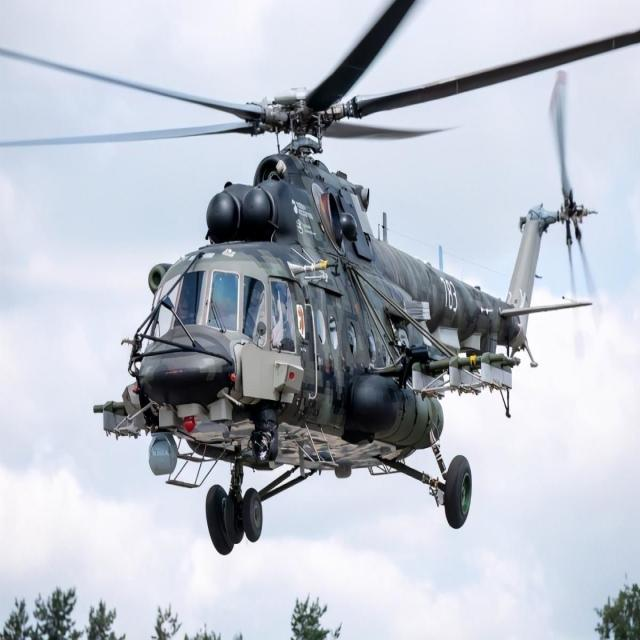MIL_HELO: (0, 0, 638, 556)
